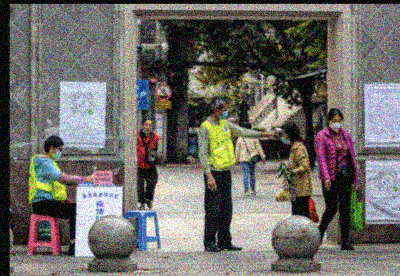mask_weared_incorrect: (143, 121, 152, 131)
with_mask: (329, 116, 342, 130), (219, 104, 229, 119), (280, 130, 290, 143), (53, 146, 62, 159)
